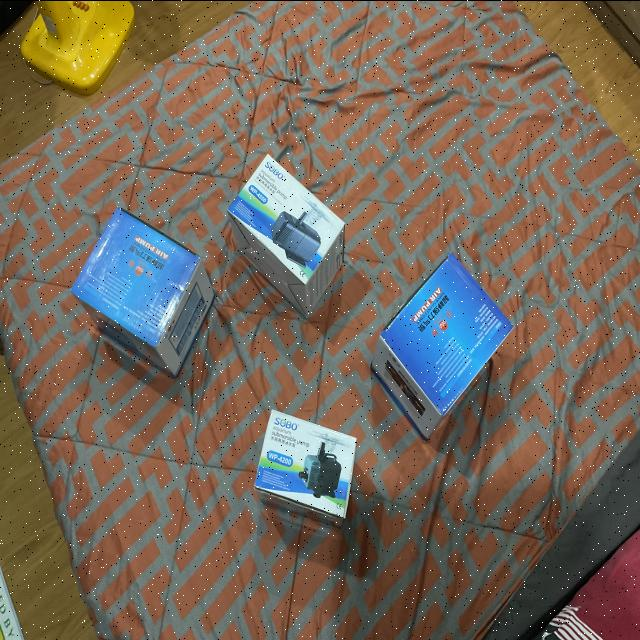SOBO_WP_4200: (232, 142, 362, 330), (250, 409, 376, 531)
YAMANO_LPP_20: (372, 248, 528, 446), (76, 190, 230, 380)
